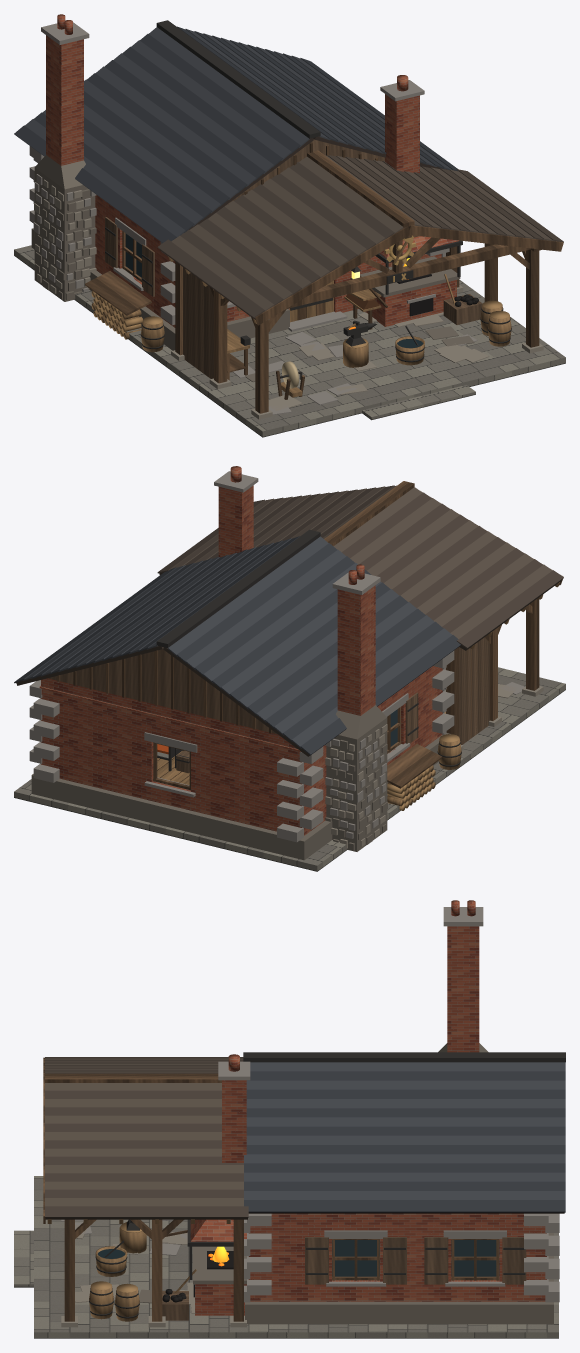
The model's file is hephaestus_cabin.glb.
3 renders of one model, top to bottom at view 1: azimuth 30°, elevation 25°; view 2: azimuth 150°, elevation 25°; view 3: azimuth 270°, elevation 25°, orthographic. The views are drawn at different scales.
Parts seen in each view (by area): view 1: HEPH_flagstone, HEPH_slate_b, HEPH_slate_a, HEPH_timber, HEPH_shingle_b, HEPH_shingle_a, HEPH_brick, HEPH_stone_b, HEPH_stone_c, HEPH_board, HEPH_iron, HEPH_stone_a (+5 smaller); view 2: HEPH_brick, HEPH_slate_b, HEPH_slate_a, HEPH_shingle_b, HEPH_stone_b, HEPH_shingle_a, HEPH_stone_c, HEPH_board, HEPH_timber, HEPH_flagstone, HEPH_brick_dark, HEPH_iron (+5 smaller); view 3: HEPH_slate_b, HEPH_slate_a, HEPH_brick, HEPH_flagstone, HEPH_shingle_b, HEPH_shingle_a, HEPH_stone_b, HEPH_stone_c, HEPH_timber, HEPH_iron, HEPH_board, HEPH_window (+5 smaller).
Part boxes in pixels (x1,y1,x2,y2): HEPH_flagstone: [14, 245, 565, 437]; HEPH_slate_b: [14, 26, 458, 242]; HEPH_slate_a: [25, 27, 452, 237]; HEPH_timber: [85, 143, 563, 413]; HEPH_shingle_b: [157, 155, 563, 318]; HEPH_shingle_a: [171, 155, 554, 311]; HEPH_brick: [46, 35, 458, 327]; HEPH_stone_b: [31, 155, 474, 382]; HEPH_stone_c: [29, 22, 477, 414]; HEPH_board: [105, 139, 482, 378]; HEPH_iron: [105, 20, 511, 379]; HEPH_stone_a: [34, 179, 543, 419]; HEPH_brick: [41, 485, 442, 835]; HEPH_slate_b: [14, 536, 460, 755]; HEPH_slate_a: [23, 536, 451, 748]; HEPH_shingle_b: [157, 485, 563, 648]; HEPH_stone_b: [31, 705, 450, 860]; HEPH_shingle_a: [172, 485, 552, 638]; HEPH_stone_c: [29, 471, 524, 842]; HEPH_board: [48, 637, 489, 744]; HEPH_timber: [57, 481, 563, 790]; HEPH_flagstone: [14, 667, 565, 871]; HEPH_brick_dark: [39, 466, 364, 757]; HEPH_iron: [156, 529, 461, 766]; HEPH_slate_b: [244, 1071, 565, 1212]; HEPH_slate_a: [244, 1062, 565, 1199]; HEPH_brick: [190, 926, 546, 1315]; HEPH_flagstone: [14, 1176, 558, 1338]; HEPH_shingle_b: [45, 1057, 248, 1217]; HEPH_shingle_a: [45, 1058, 243, 1206]; HEPH_stone_b: [113, 1043, 553, 1324]; HEPH_stone_c: [61, 907, 559, 1302]; HEPH_timber: [43, 1057, 499, 1321]; HEPH_iron: [89, 1052, 565, 1318]; HEPH_board: [162, 1237, 526, 1320]; HEPH_window: [332, 1240, 499, 1276].
Size of what is drawn, in the model's own units: 9.73 by 7.87 by 13.88.
34 materials, 6 textured.
